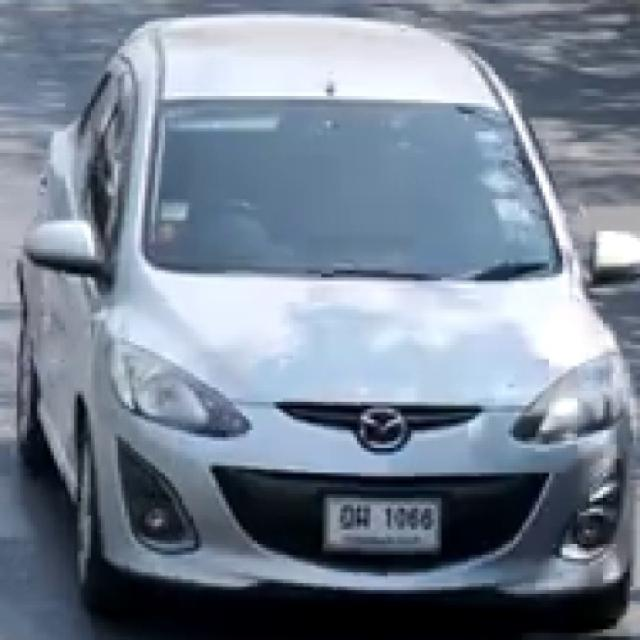plate: (326, 497, 441, 552)
